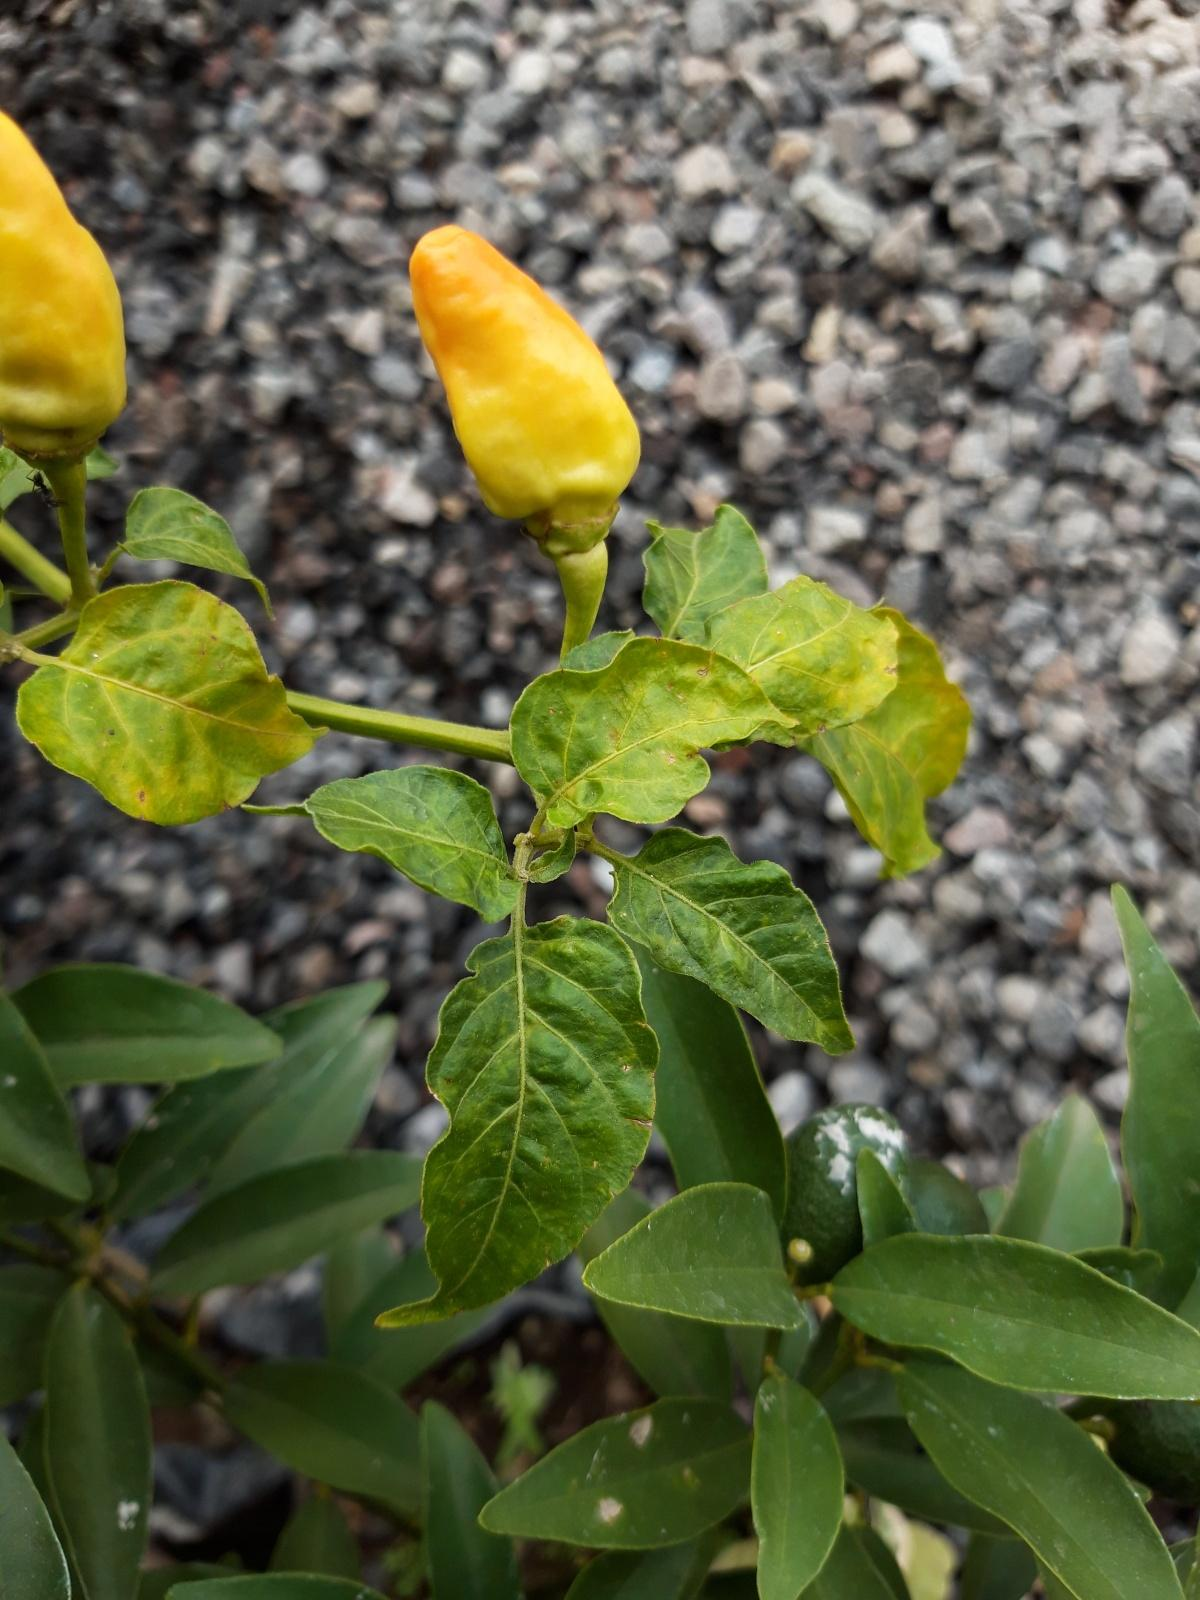cabai_normal: (410, 219, 645, 525), (0, 102, 127, 451)
